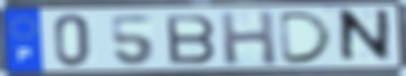0: (51, 12, 97, 69)
5: (108, 12, 157, 67)
B: (163, 13, 219, 66)
D: (278, 10, 337, 66)
H: (217, 9, 280, 67)
N: (337, 7, 393, 66)
